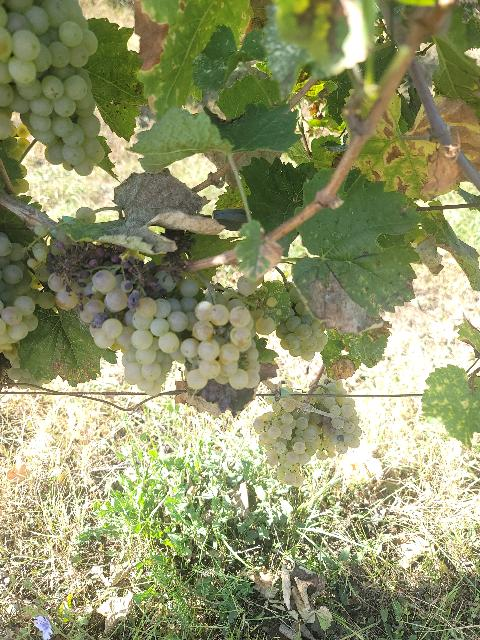grapes: (0, 0, 105, 176), (50, 270, 184, 396), (179, 280, 260, 390), (254, 382, 310, 488), (0, 232, 39, 360), (309, 379, 361, 459), (276, 286, 328, 361)
